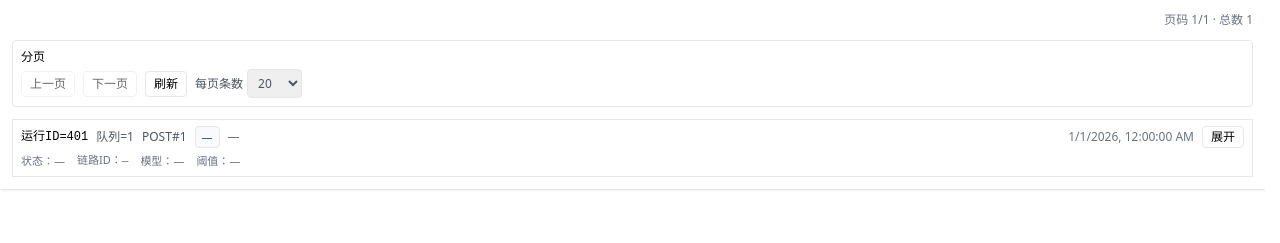
Test: ModerationPipelineHistoryPanel › 展示错误提示：详情加载失败
expect the text "运行ID=401" is shown: met, box [21, 129, 88, 145]
expect the button "运行ID=401" is shown: met, box [12, 119, 1253, 176]
Click the button "展开": (1223, 137) [1202, 126, 1244, 148]
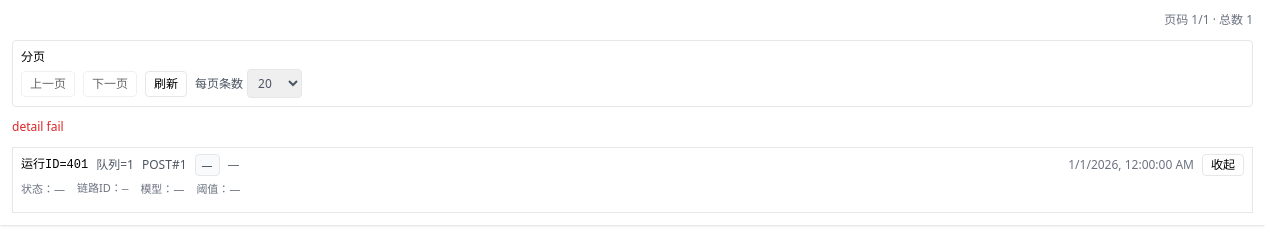
expect the text "detail fail" is shown: met, box [12, 118, 64, 135]
